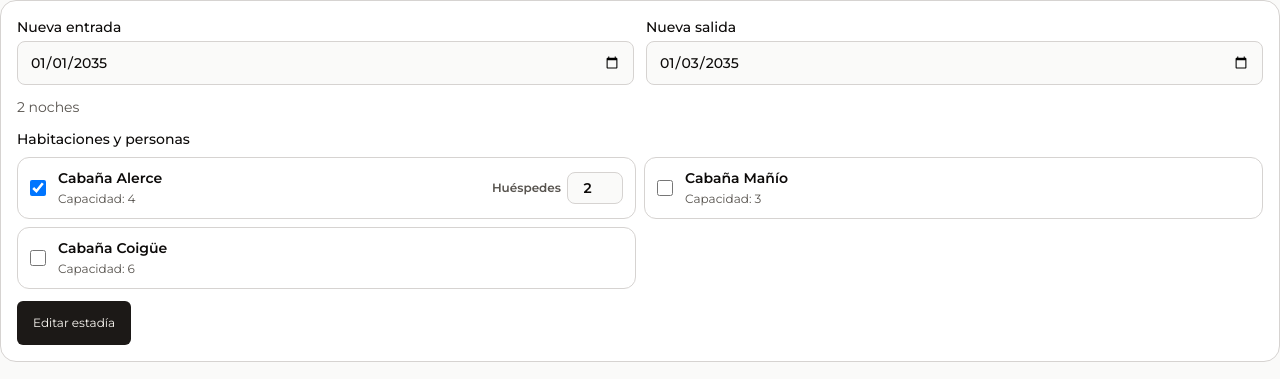
it: stay form sends all three axes in one submit (task 6.1) › clamps the occupancy to the room's capacity
Expected: the checkbox labelled "Cabaña Alerce Capacidad: 4" is shown, [30,180,46,196]
Replace the text in the number field named "Huéspedes en Cabaña Alerce" with "99" at (595, 188), box [567,172,623,204]
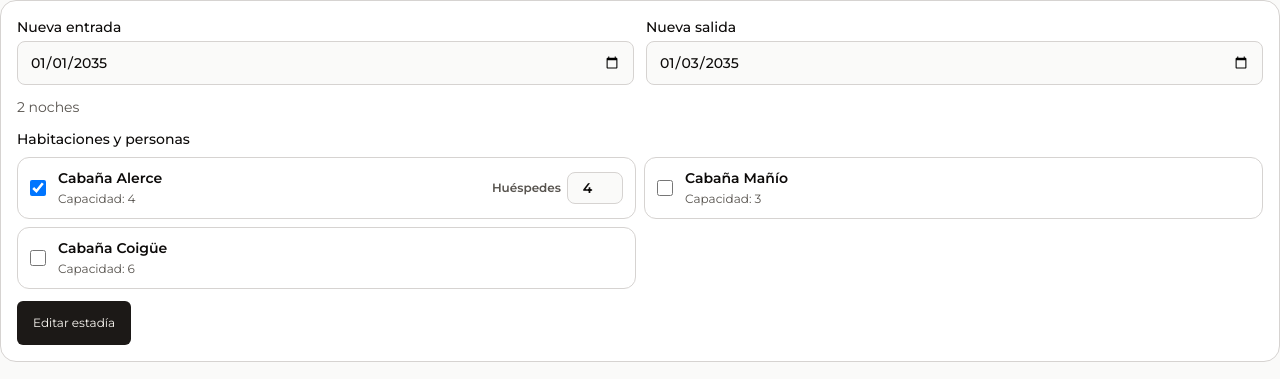
Now the number field named "Huéspedes en Cabaña Alerce" holds "4", box [567,172,623,204]
